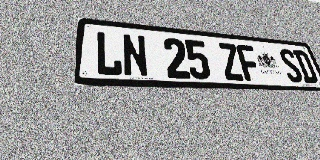2: (163, 37, 190, 79)
5: (184, 39, 212, 80)
D: (292, 50, 319, 83)
F: (235, 44, 263, 81)
L: (95, 31, 123, 76)
N: (122, 33, 149, 77)
S: (277, 48, 305, 83)
Z: (217, 42, 245, 81)
